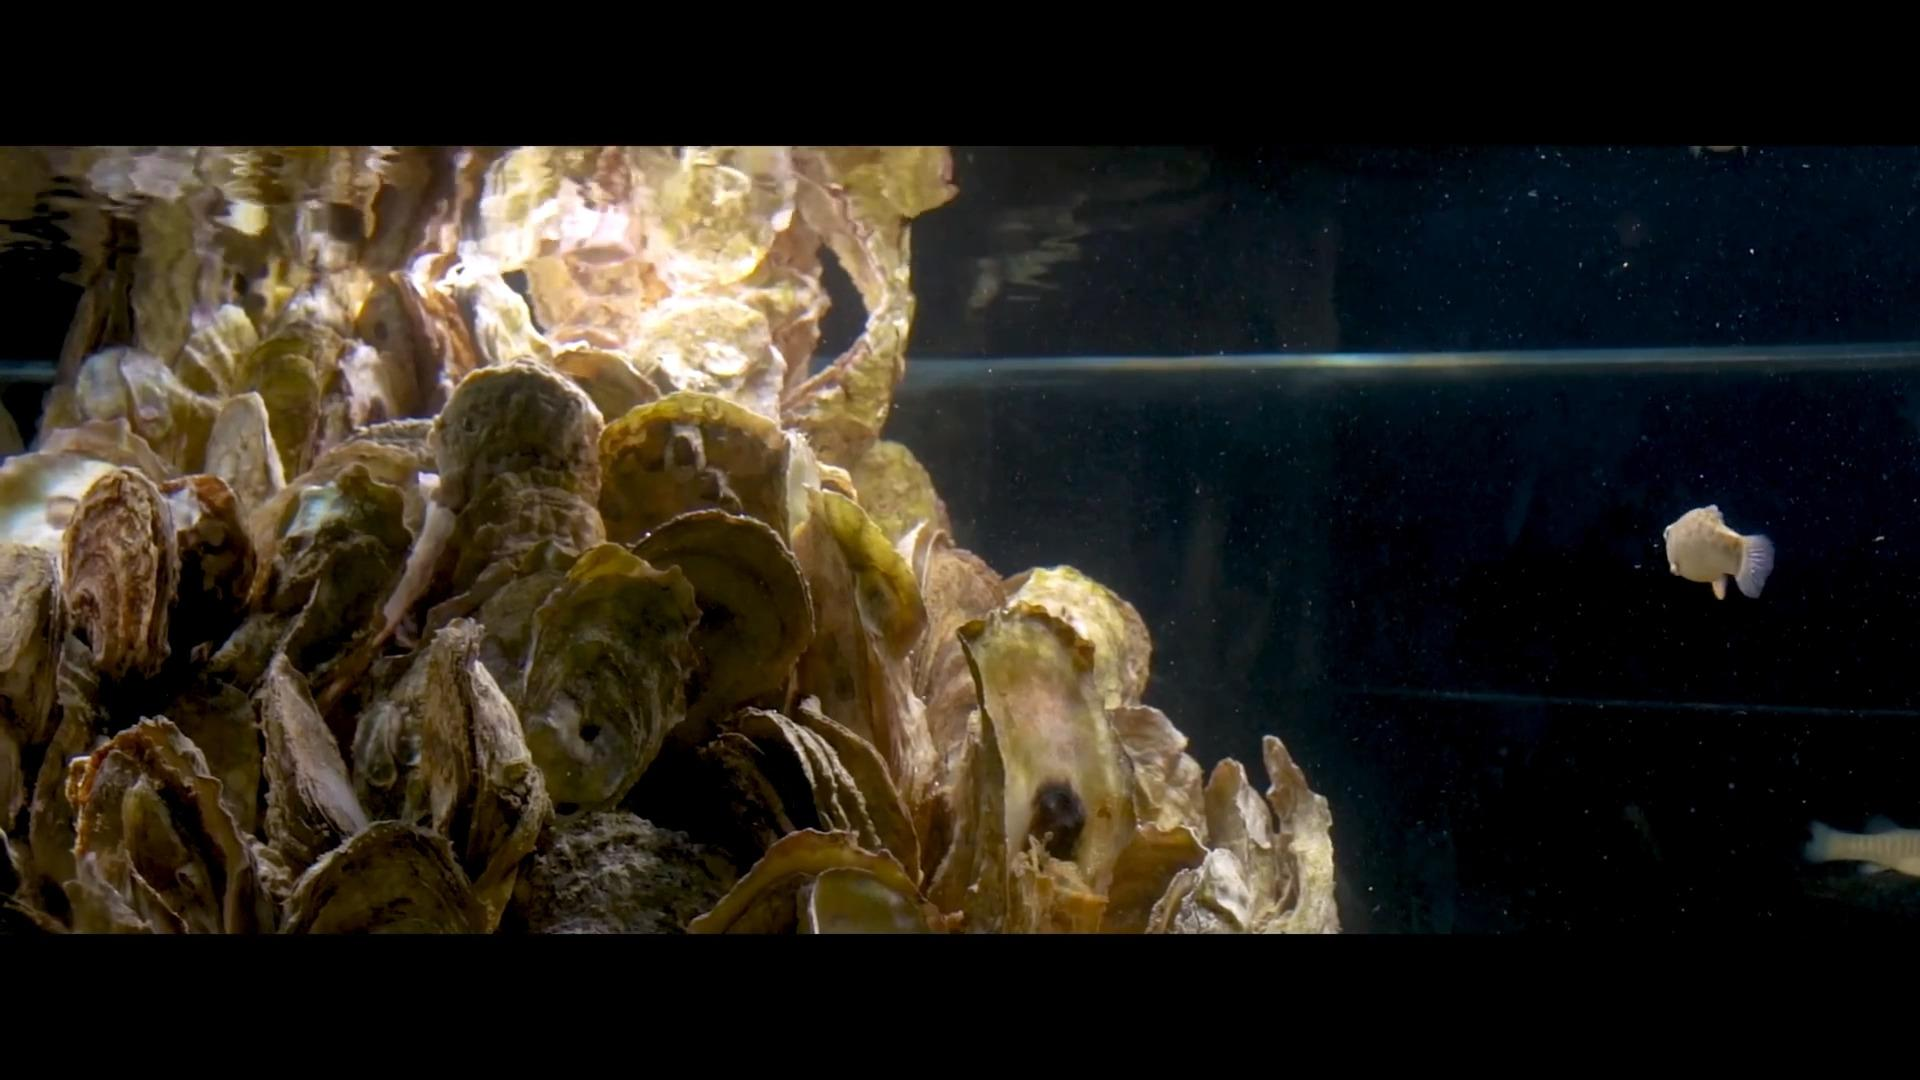Oyster: (516, 543, 702, 810), (389, 626, 550, 911), (245, 462, 418, 712), (59, 715, 258, 931), (1146, 729, 1348, 931), (415, 487, 615, 687), (630, 508, 812, 723), (720, 696, 911, 886), (591, 388, 800, 555), (787, 260, 923, 468), (518, 810, 742, 935), (430, 361, 603, 516), (906, 530, 1017, 770), (1089, 731, 1216, 935), (253, 647, 368, 872), (986, 559, 1151, 713), (61, 467, 178, 682), (21, 690, 111, 926), (807, 484, 926, 654), (340, 272, 458, 435), (61, 343, 208, 472), (622, 287, 781, 407), (231, 322, 334, 483), (156, 471, 257, 629), (650, 154, 767, 280), (0, 538, 65, 748), (845, 434, 951, 555), (199, 386, 285, 535), (543, 342, 667, 431), (831, 145, 959, 228), (175, 303, 262, 410)
